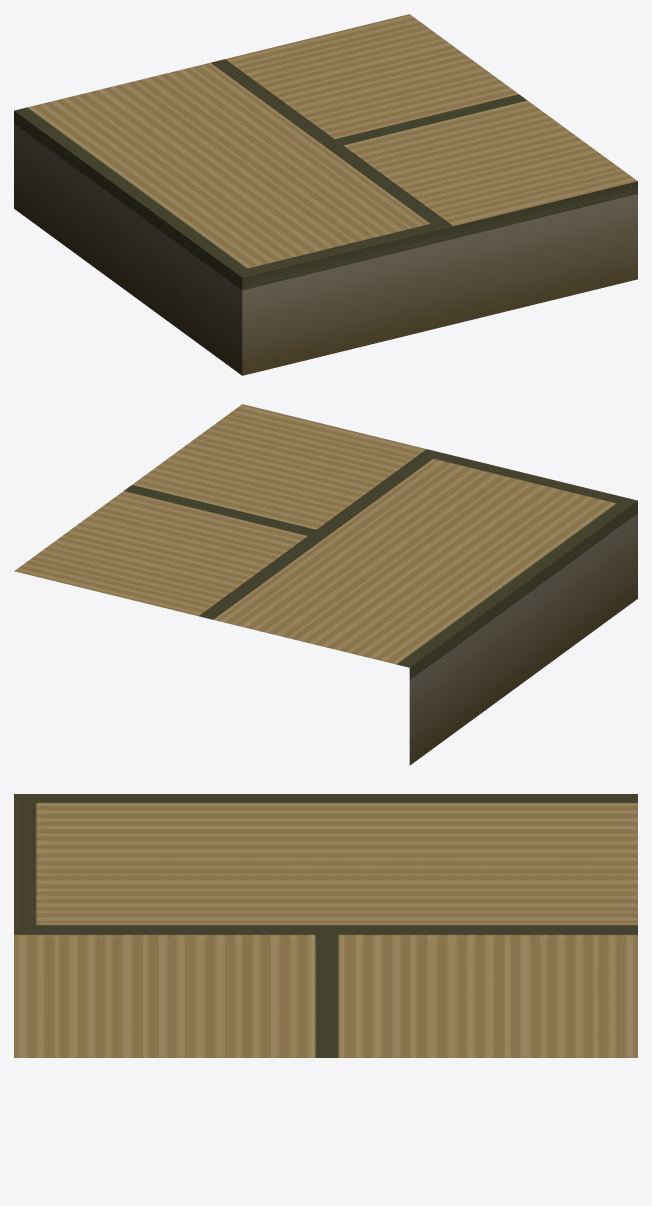
The model's file is my_newyearpath_01_tile_2x2.glb.
3 views of the same model, one above another, from view 1: azimuth 30°, elevation 25°; view 2: azimuth 150°, elevation 25°; view 3: azimuth 270°, elevation 25° (orthographic). The views are drawn at different scales.
Parts seen in each view (by area): view 1: my_newyearpath_01_tile_2x2; view 2: my_newyearpath_01_tile_2x2; view 3: my_newyearpath_01_tile_2x2.
Boxes of the visible parts, x1,y1,x2,y2 form: my_newyearpath_01_tile_2x2: (14,14,637,375); my_newyearpath_01_tile_2x2: (14,404,637,765); my_newyearpath_01_tile_2x2: (14,794,637,1057).
Bounding box in the file's own units: 0.012 × 0.00284 × 0.012.
Materials: 1 (1 with a texture image).
